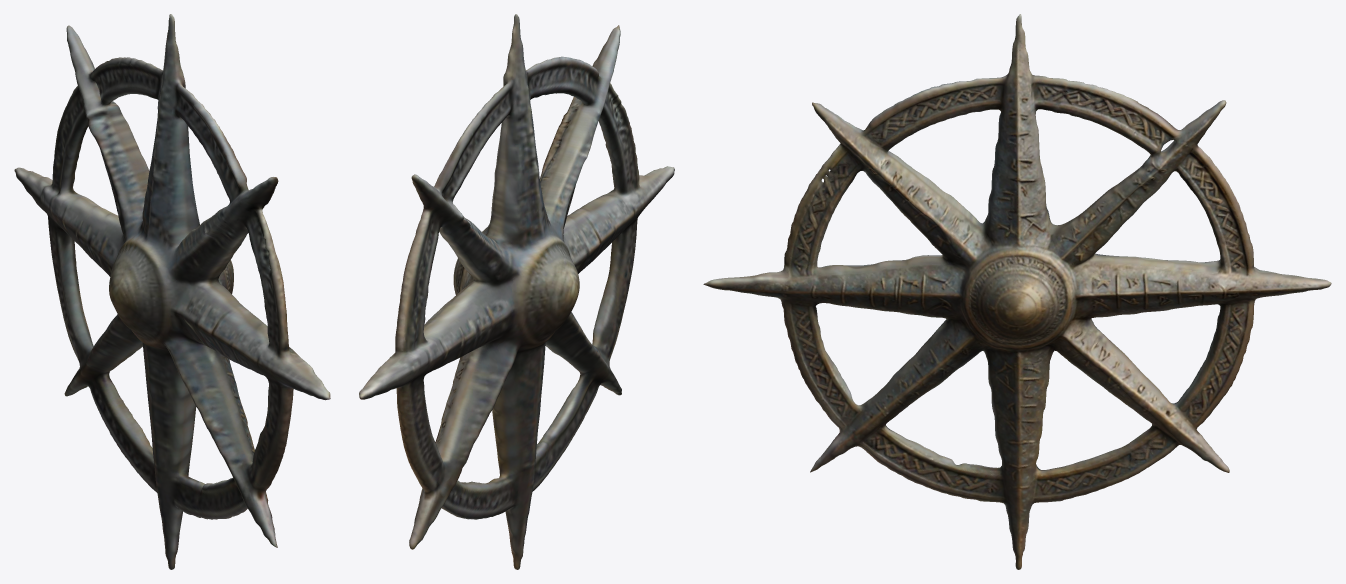
Rendered from vegvisir_3d.glb.
3 renders of one model, left to right at view 1: azimuth 30°, elevation 25°; view 2: azimuth 150°, elevation 25°; view 3: azimuth 270°, elevation 25°, orthographic.
Parts seen in each view (by area): view 1: tripo_node_b76a353f-afd2-4d8b-92a9-5e4faef39877; view 2: tripo_node_b76a353f-afd2-4d8b-92a9-5e4faef39877; view 3: tripo_node_b76a353f-afd2-4d8b-92a9-5e4faef39877.
Part boxes in pixels (box(x1,y1,x2,y2)): tripo_node_b76a353f-afd2-4d8b-92a9-5e4faef39877: box(14, 14, 330, 569); tripo_node_b76a353f-afd2-4d8b-92a9-5e4faef39877: box(359, 14, 674, 569); tripo_node_b76a353f-afd2-4d8b-92a9-5e4faef39877: box(703, 14, 1331, 569).
Bounding box in the file's own units: 0.167 × 0.7756 × 0.7954.
Materials: 1 (1 with a texture image).
